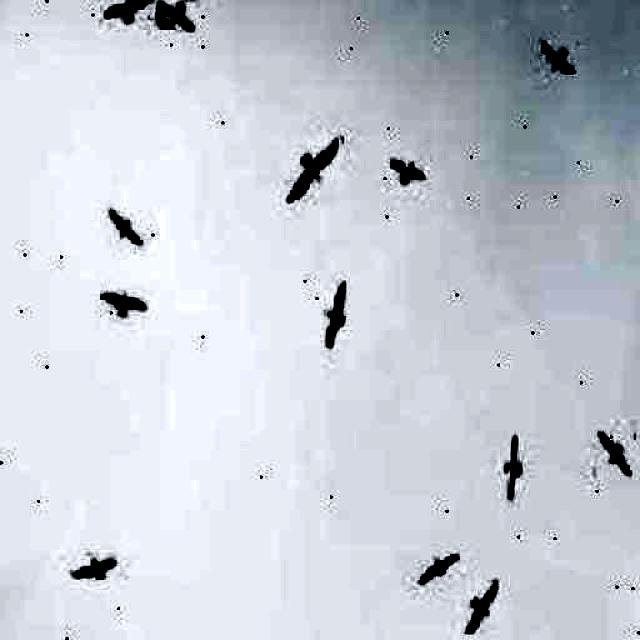airplane: (286, 134, 340, 206), (594, 430, 634, 476), (464, 579, 496, 635), (322, 279, 346, 351), (104, 206, 144, 246), (99, 288, 148, 319), (419, 551, 459, 588), (536, 39, 576, 75), (504, 435, 524, 502), (154, 0, 196, 31), (71, 552, 115, 581), (101, 0, 151, 24), (388, 158, 425, 186), (149, 0, 188, 20)
